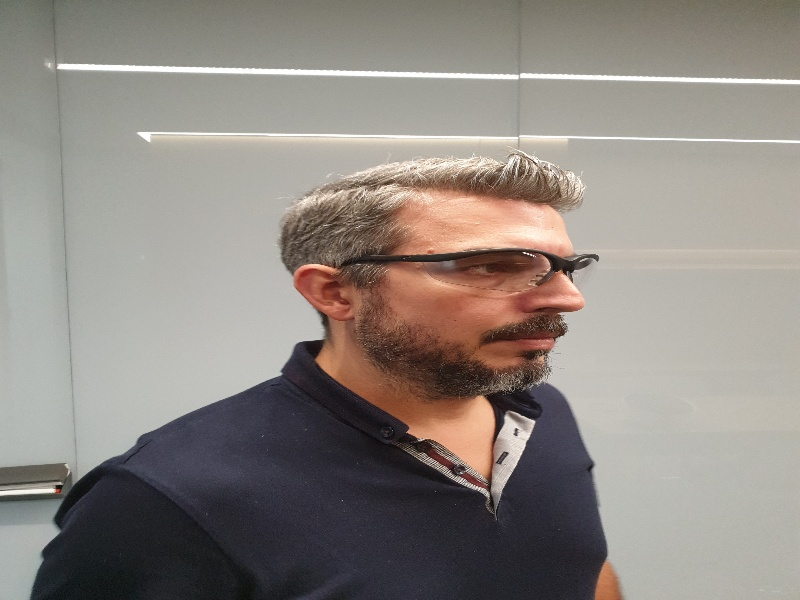Gozluk: (336, 246, 603, 300)
